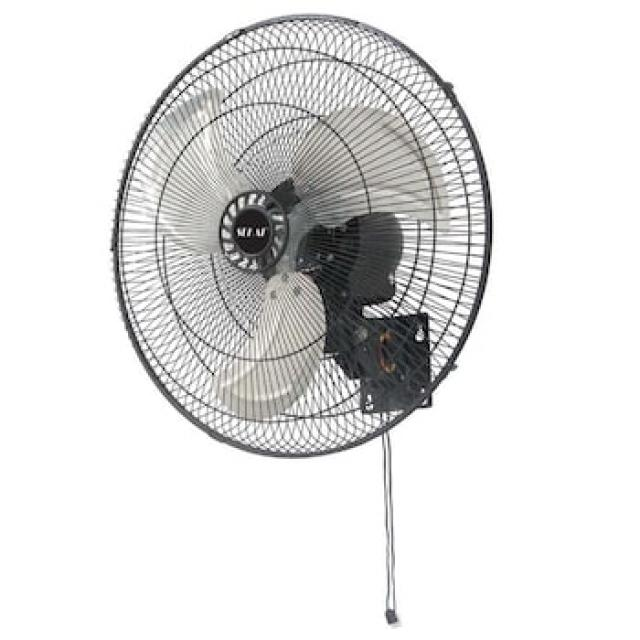fan: (107, 6, 499, 626)
